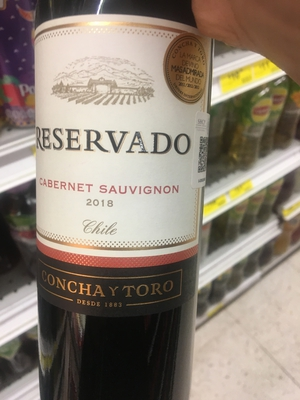reservado cabernet sauvignon: (29, 8, 216, 400)
